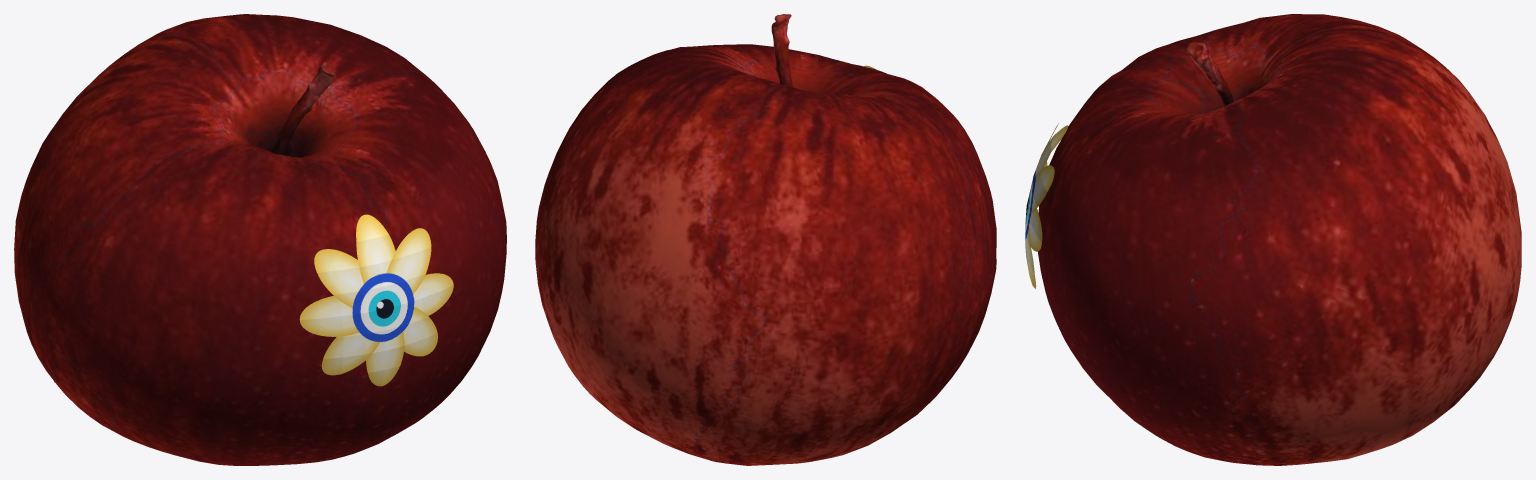
The model's file is nyb_enchanted_apple.glb.
The picture shows the model from 3 angles, left to right: view 1: azimuth 30°, elevation 25°; view 2: azimuth 150°, elevation 25°; view 3: azimuth 270°, elevation 25°; orthographic projection. The views are drawn at different scales.
Parts seen in each view (by area): view 1: food_apple_01, stk_eyeflower_gold.png; view 2: food_apple_01; view 3: food_apple_01, stk_eyeflower_gold.png.
Part boxes in pixels (left/top/right/bottom): food_apple_01: left=14, top=14, right=506, bottom=465; stk_eyeflower_gold.png: left=299, top=214, right=453, bottom=386; food_apple_01: left=535, top=14, right=996, bottom=465; food_apple_01: left=1038, top=14, right=1521, bottom=465; stk_eyeflower_gold.png: left=1025, top=123, right=1067, bottom=288.
Size of the model in its own units: 0.0976 by 0.0854 by 0.0984.
2 materials, 2 textured.
